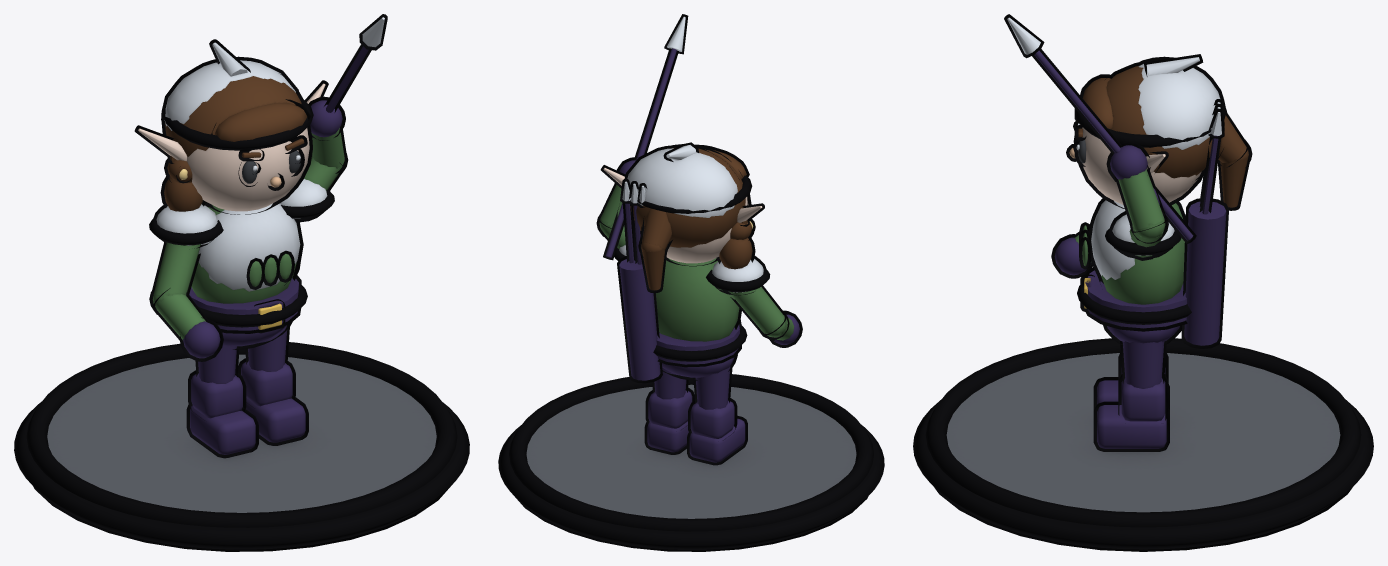
Rendered from sentinel_s2.fbx.
3 views of the same model, side by side, from view 1: azimuth 30°, elevation 25°; view 2: azimuth 150°, elevation 25°; view 3: azimuth 270°, elevation 25° (orthographic). The views are drawn at different scales.
Visible parts, largest first — view 1: sentinel_s2; view 2: sentinel_s2; view 3: sentinel_s2.
Part boxes in pixels (x1,y1,x2,y2): sentinel_s2: [14, 14, 469, 551]; sentinel_s2: [498, 14, 884, 551]; sentinel_s2: [913, 14, 1373, 551].
Bounding box in the file's own units: 1.58 × 1.82 × 1.58.
Materials: 2 (1 with a texture image).
